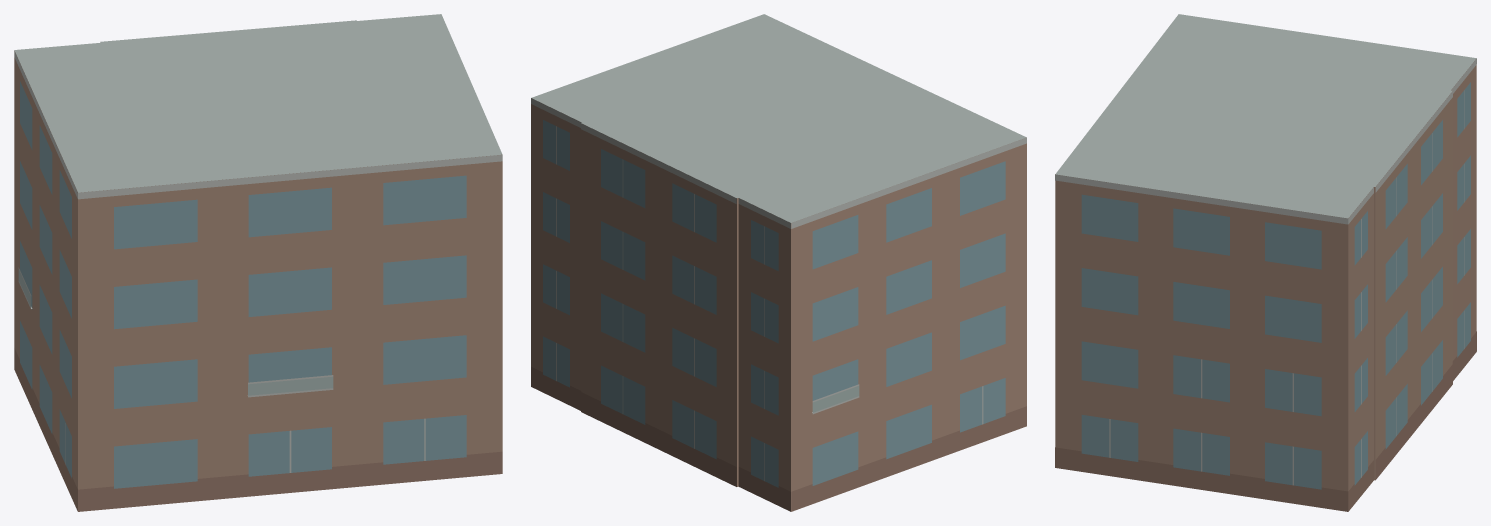
Rendered from survey-upis-32699850.glb.
3 renders of one model, left to right at view 1: azimuth 30°, elevation 25°; view 2: azimuth 150°, elevation 25°; view 3: azimuth 270°, elevation 25°, orthographic. The views are drawn at different scales.
Parts seen in each view (by area): view 1: survey-upis-32699850.tmp; view 2: survey-upis-32699850.tmp; view 3: survey-upis-32699850.tmp.
Boxes of the visible parts, bbox=[...] form: survey-upis-32699850.tmp: bbox=[14, 14, 502, 511]; survey-upis-32699850.tmp: bbox=[531, 14, 1026, 511]; survey-upis-32699850.tmp: bbox=[1055, 14, 1476, 511].
Bounding box in the file's own units: 17.41 × 11.65 × 15.18.
